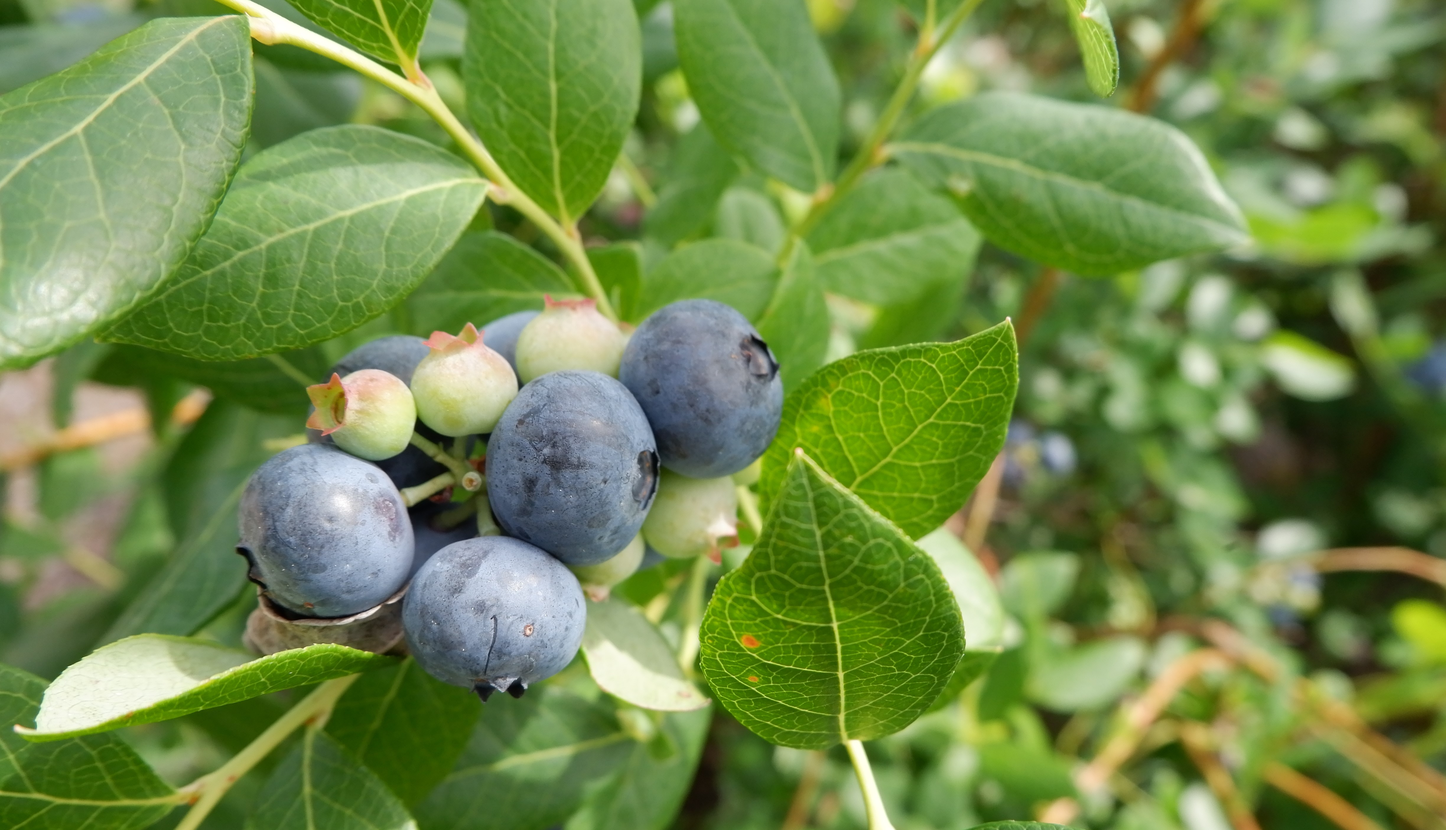Immature: (416, 327, 514, 435), (308, 370, 414, 458), (517, 299, 626, 384), (645, 470, 739, 562), (574, 537, 643, 597)
Mature: (487, 371, 655, 562), (237, 446, 414, 616), (402, 540, 588, 693), (624, 305, 779, 476), (306, 335, 453, 491), (406, 501, 477, 584), (485, 311, 541, 376)
